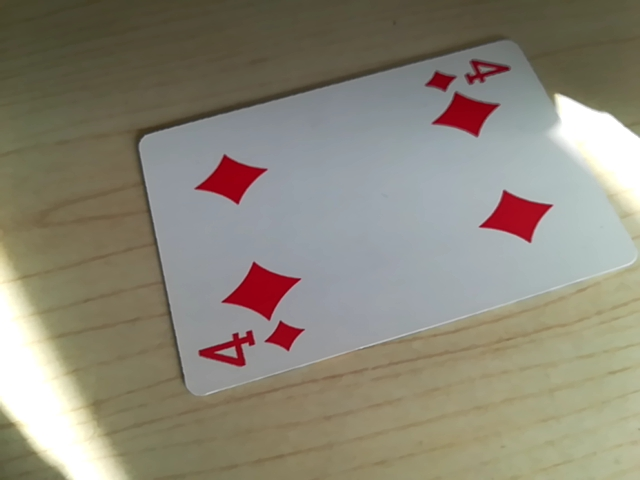fk 4: (194, 318, 308, 376), (418, 51, 516, 97)
